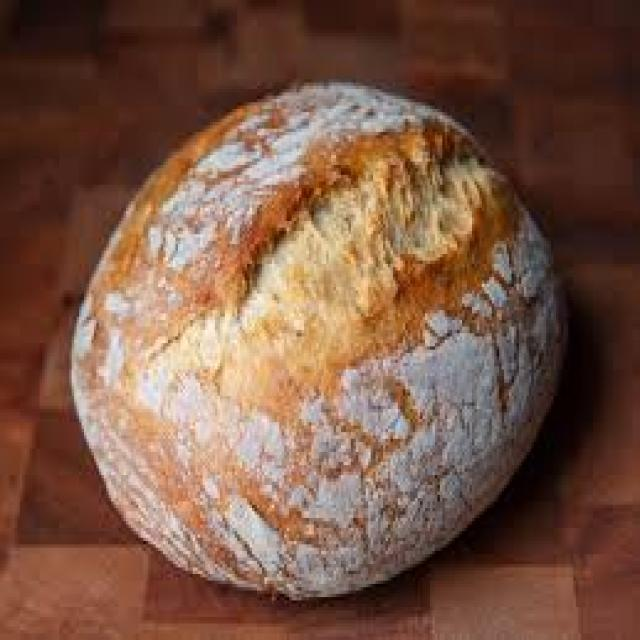food_waste: (72, 82, 563, 597)
